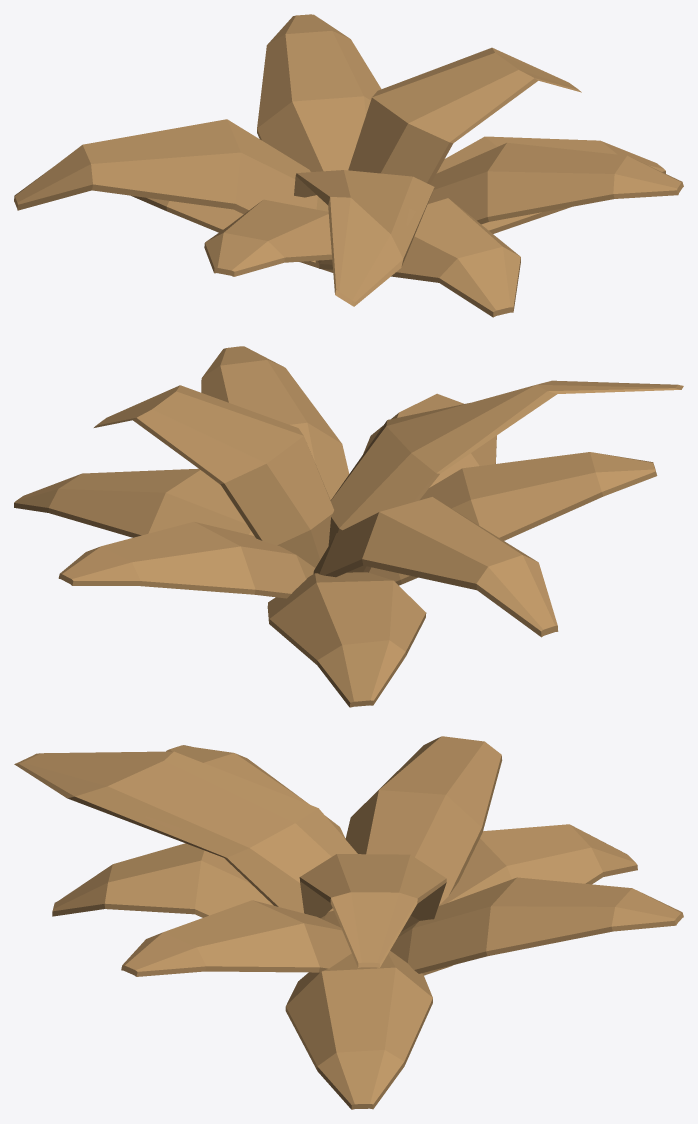
Rendered from SM_Fern_02.fbx.
3 views of the same model, one above another, from view 1: azimuth 30°, elevation 25°; view 2: azimuth 150°, elevation 25°; view 3: azimuth 270°, elevation 25° (orthographic). The views are drawn at different scales.
Visible parts, largest first — view 1: SM_Fern_02; view 2: SM_Fern_02; view 3: SM_Fern_02.
Part boxes in pixels (x1,y1,x2,y2): SM_Fern_02: (14,14,683,317); SM_Fern_02: (14,346,683,707); SM_Fern_02: (14,736,683,1109).
Bounding box in the file's own units: 235 × 64.45 × 230.
